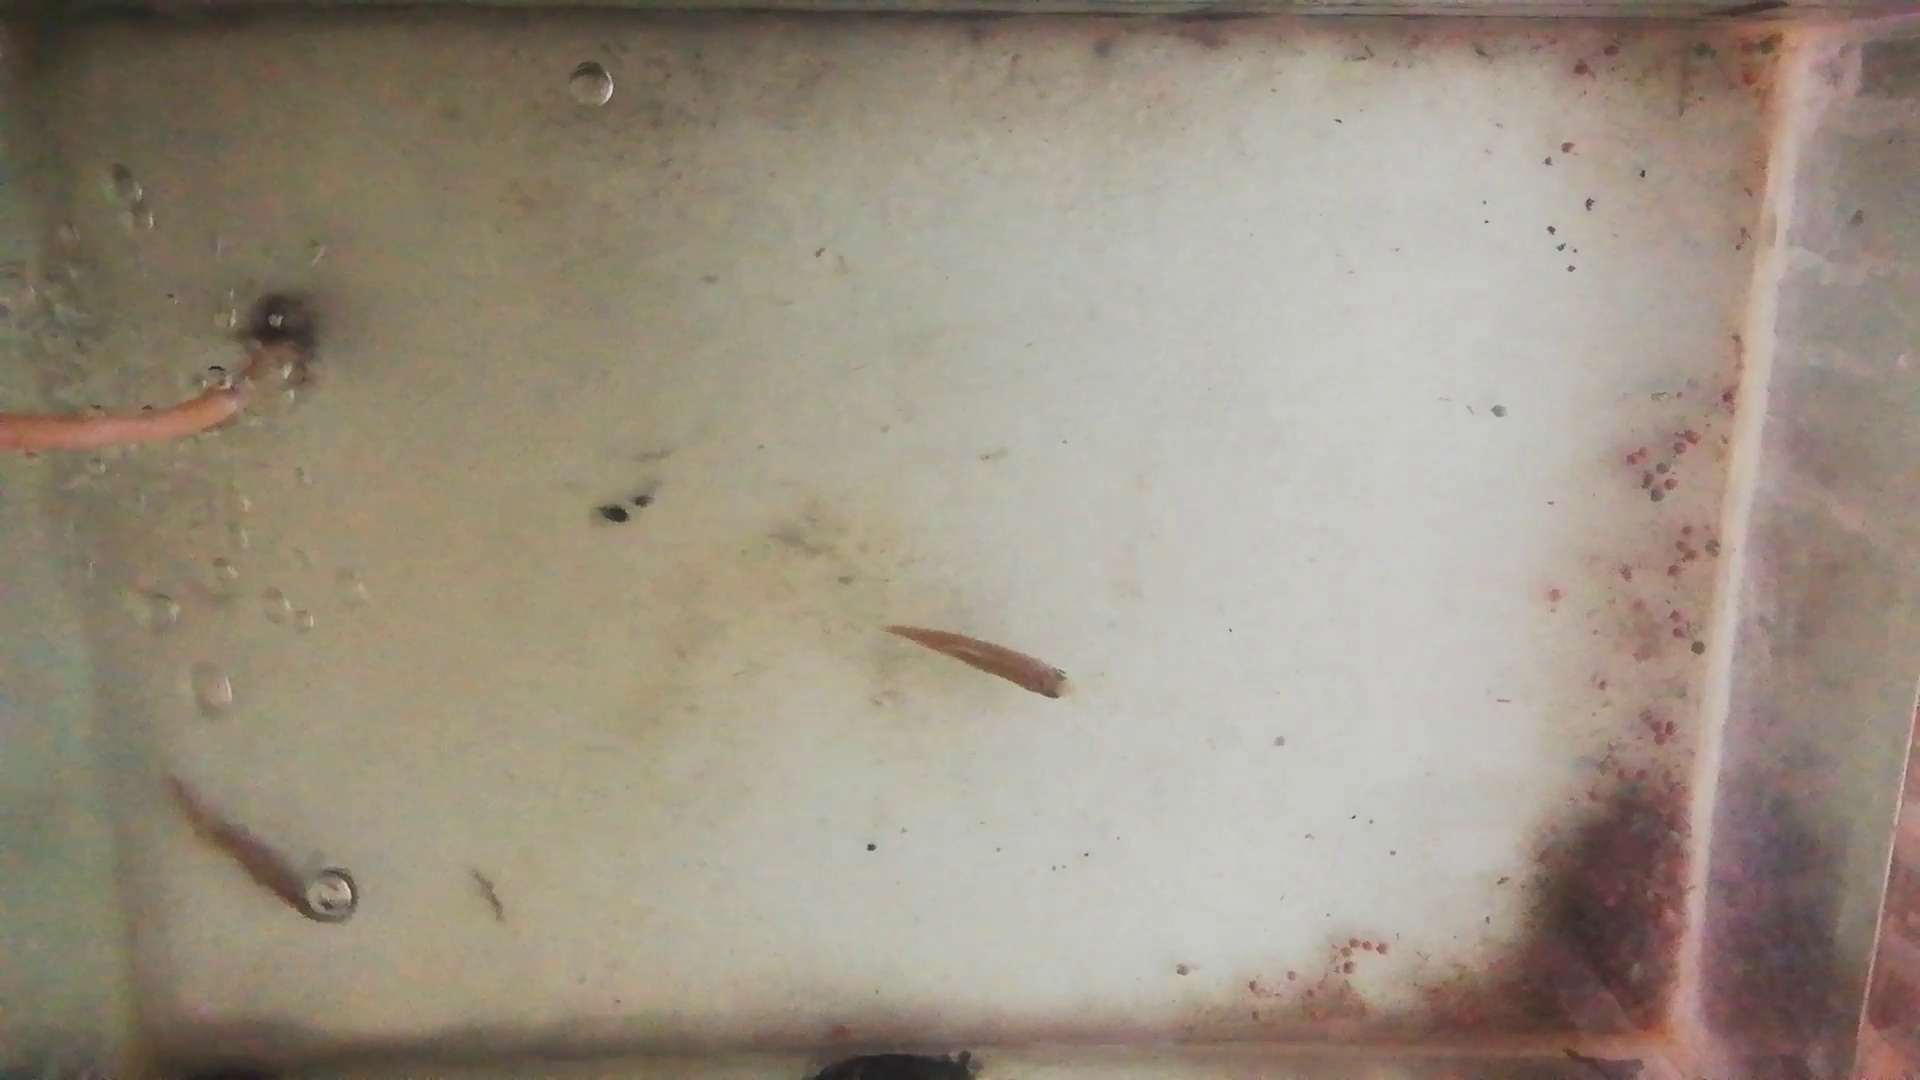fish: (164, 767, 339, 926), (884, 621, 1077, 703)
